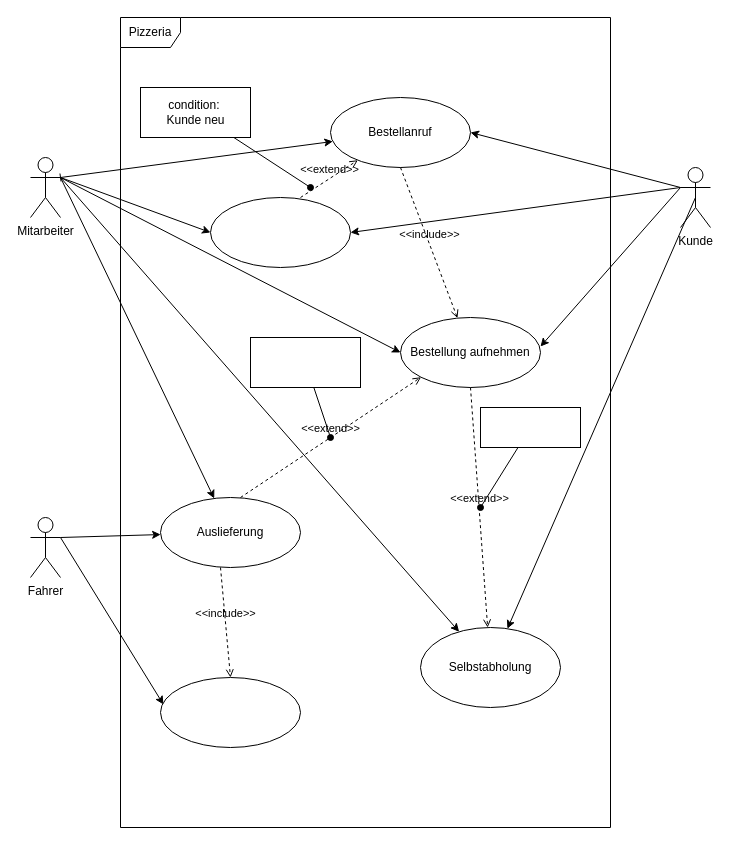
This 730x845 diagram has some shape labels left out. The shapes that lost their labels are listed below. From the top down, each one's centre as x and y in pixels, then its label:
the point at 280,232: Kundendaten erfassen
the point at 305,362: condition: > Lieferung
the point at 530,427: condition: > selbst abholen
the point at 230,712: SMS senden
